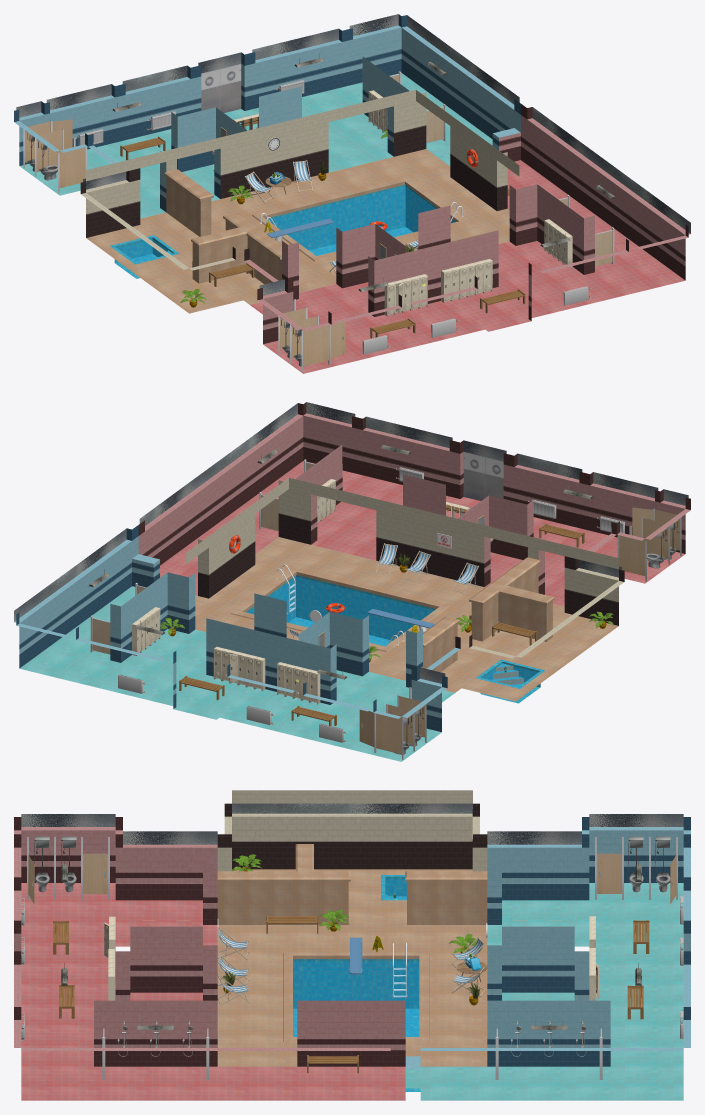
The model's file is Pool 2.glb.
3 views of the same model, one above another, from view 1: azimuth 30°, elevation 25°; view 2: azimuth 150°, elevation 25°; view 3: azimuth 270°, elevation 25° (orthographic). The views are drawn at different scales.
Visible parts, largest first — view 1: Main, Props_additional, Props, Water_Big_Pool, Pool_Props, Water_Small_Pool; view 2: Main, Props_additional, Props, Water_Big_Pool, Pool_Props, Water_Small_Pool; view 3: Main, Props_additional, Props, Water_Big_Pool, Pool_Props.
Boxes of the visible parts, x1,y1,x2,y2 form: Main: (14, 14, 690, 373); Props_additional: (25, 79, 593, 366); Props: (23, 53, 615, 371); Water_Big_Pool: (270, 187, 453, 255); Pool_Props: (180, 161, 463, 307); Water_Small_Pool: (118, 239, 167, 261); Main: (14, 402, 690, 761); Props_additional: (118, 467, 679, 754); Props: (89, 441, 681, 759); Water_Big_Pool: (248, 577, 433, 645); Pool_Props: (276, 553, 613, 662); Water_Small_Pool: (483, 666, 537, 686); Main: (14, 790, 690, 1100); Props_additional: (21, 836, 683, 1073); Props: (27, 837, 677, 1079); Water_Big_Pool: (293, 962, 418, 1036); Pool_Props: (220, 854, 479, 1005).
Bounding box in the file's own units: 25.62 × 6.65 × 30.89.
35 materials, 32 textured.
